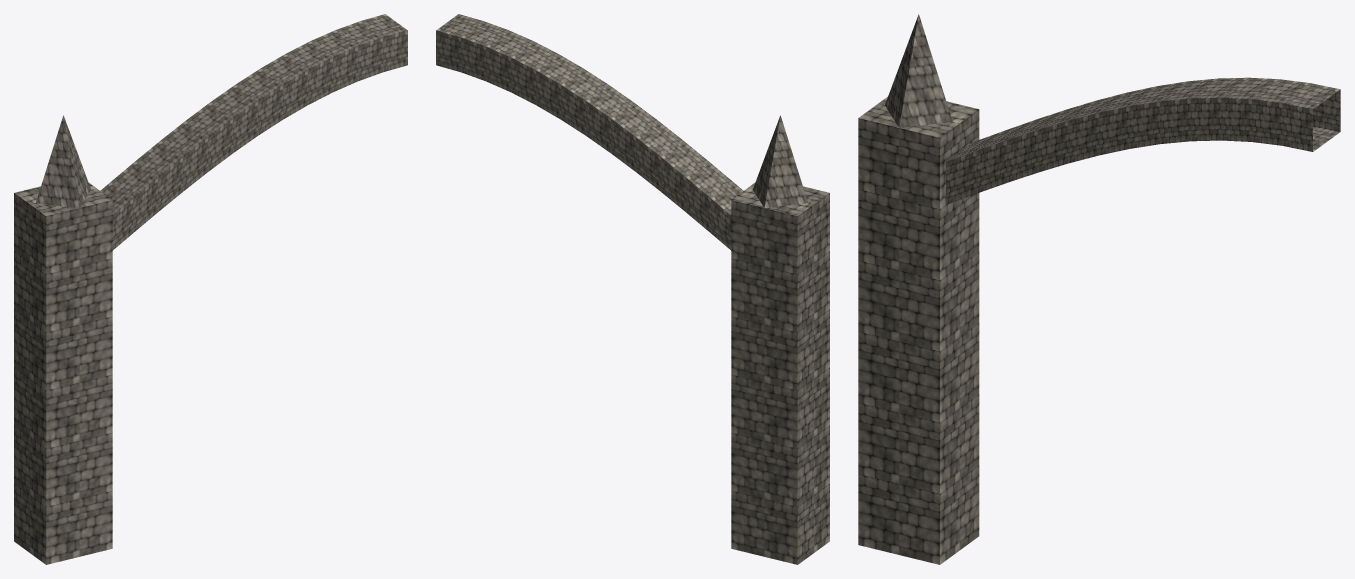
Rendered from Flyingbuttress_1.gltf.
3 views of the same model, side by side, from view 1: azimuth 30°, elevation 25°; view 2: azimuth 150°, elevation 25°; view 3: azimuth 330°, elevation 25° (orthographic). The views are drawn at different scales.
Visible parts, largest first — view 1: Flyingbuttress_1; view 2: Flyingbuttress_1; view 3: Flyingbuttress_1.
Boxes of the visible parts, <box> form: Flyingbuttress_1: <box>14,14,407,564</box>; Flyingbuttress_1: <box>436,14,829,564</box>; Flyingbuttress_1: <box>858,14,1340,564</box>.
Bounding box in the file's own units: 6.6 × 7.6 × 1.
Materials: 1 (1 with a texture image).
